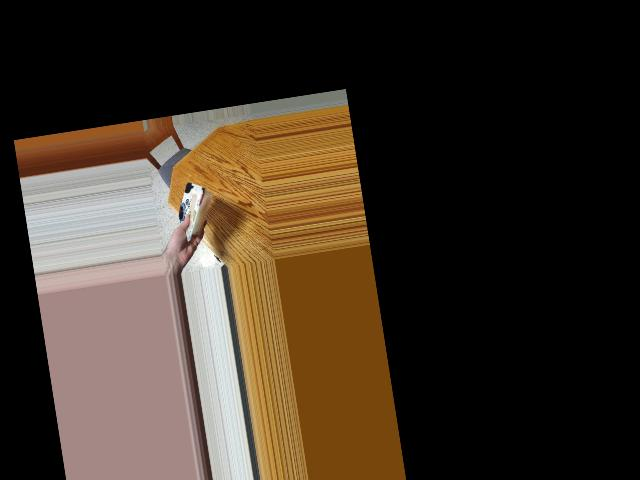cheese: (165, 182, 216, 235)
